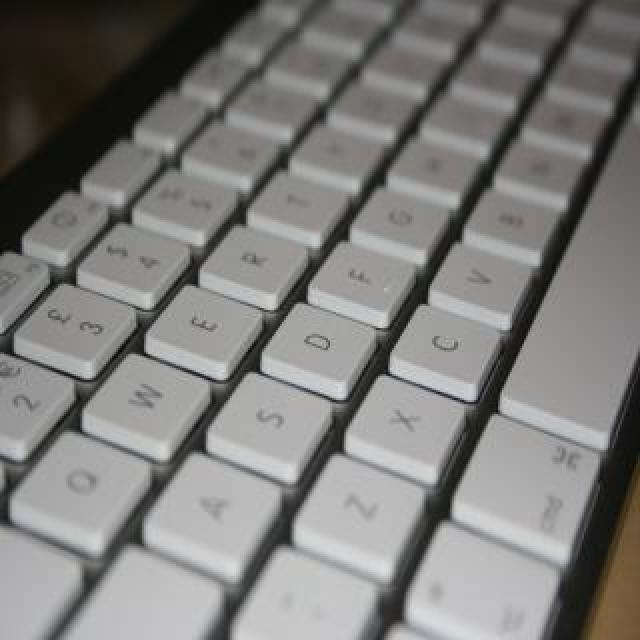laptop_computer: (8, 6, 632, 640)
